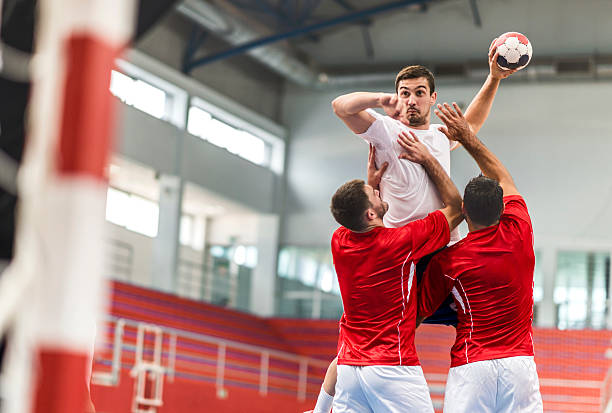ball: (490, 32, 533, 71)
player: (315, 37, 521, 410), (319, 132, 464, 411), (415, 102, 542, 413)
